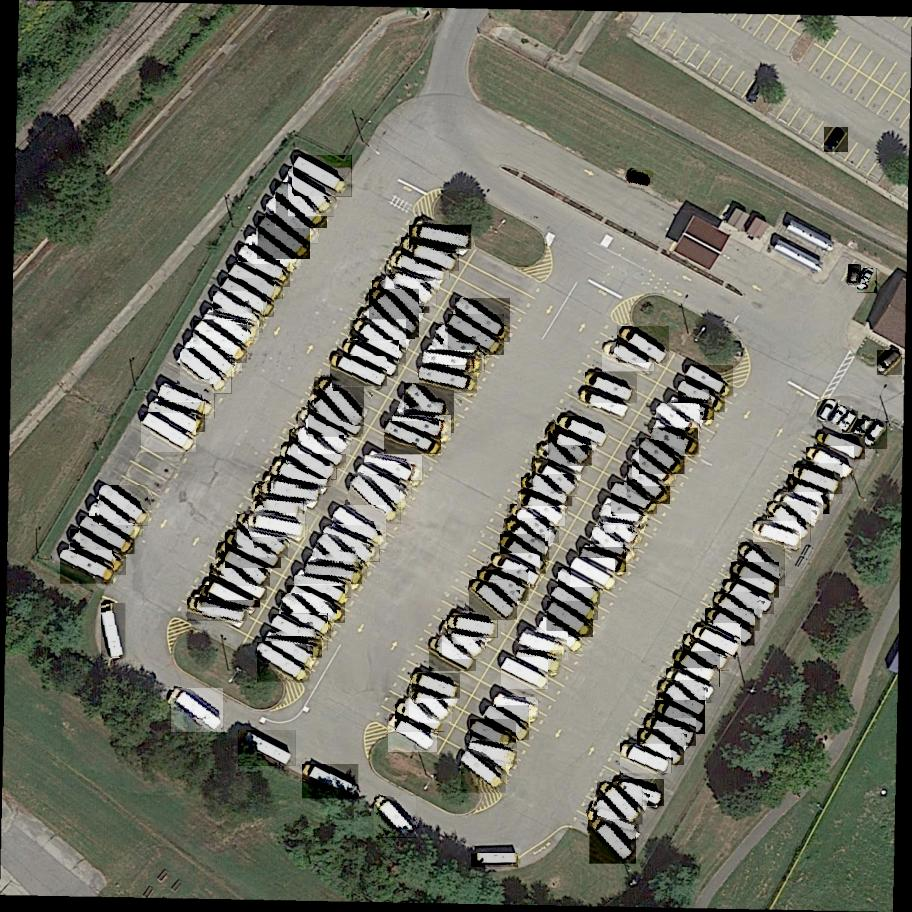large-vehicle: (314, 374, 366, 427), (350, 473, 401, 527), (71, 527, 127, 576), (435, 323, 486, 376), (351, 319, 407, 367), (455, 295, 510, 343), (368, 287, 419, 338), (286, 166, 335, 219), (405, 382, 454, 435), (317, 533, 367, 584), (218, 540, 270, 589), (299, 407, 351, 456), (178, 348, 232, 395), (281, 593, 332, 642), (267, 197, 319, 245), (258, 212, 311, 259), (171, 687, 224, 734), (293, 155, 352, 197), (209, 561, 269, 602), (255, 480, 305, 529), (386, 260, 437, 308), (276, 183, 328, 230), (237, 513, 290, 559), (289, 427, 347, 469), (193, 320, 247, 365), (333, 505, 387, 550), (448, 315, 505, 357), (238, 244, 291, 289), (287, 583, 345, 624), (256, 643, 310, 686), (141, 411, 196, 453), (271, 613, 330, 652), (238, 729, 297, 767), (356, 464, 413, 503), (307, 400, 365, 438), (213, 290, 264, 333), (508, 503, 560, 545), (221, 276, 274, 317), (343, 339, 400, 377), (738, 542, 785, 588), (590, 818, 636, 865), (99, 485, 149, 528), (225, 531, 281, 569), (597, 780, 643, 826), (505, 516, 550, 563), (469, 577, 517, 621), (80, 517, 134, 556), (402, 235, 460, 271), (323, 526, 381, 562), (618, 325, 670, 365), (282, 445, 338, 482), (638, 727, 685, 771), (721, 577, 775, 615), (302, 764, 359, 800), (706, 607, 756, 648), (159, 383, 216, 418), (229, 264, 284, 300), (533, 454, 578, 498), (461, 751, 507, 794), (659, 678, 705, 721), (549, 420, 592, 466), (388, 713, 437, 753), (372, 281, 431, 314), (384, 421, 441, 455), (768, 500, 812, 544), (409, 680, 452, 725), (88, 504, 143, 539), (714, 591, 762, 631), (731, 562, 780, 601), (500, 535, 547, 575), (599, 508, 641, 552), (655, 700, 706, 736), (488, 553, 542, 587), (60, 550, 114, 584), (540, 617, 587, 656), (245, 236, 302, 268), (330, 356, 387, 388), (375, 796, 416, 840), (626, 465, 670, 506), (478, 567, 531, 601), (807, 446, 857, 482), (683, 634, 729, 673), (674, 649, 720, 688), (639, 437, 686, 475), (691, 623, 742, 658), (577, 388, 631, 421), (518, 490, 566, 527), (149, 402, 206, 433), (789, 473, 831, 515), (443, 619, 485, 661), (657, 402, 701, 442), (667, 669, 720, 702), (184, 342, 242, 372), (419, 365, 479, 394), (546, 601, 593, 638), (535, 442, 587, 475), (631, 450, 675, 488), (391, 252, 450, 280), (603, 342, 656, 373), (556, 415, 609, 446), (621, 743, 672, 775), (586, 372, 637, 404), (428, 639, 476, 673), (557, 568, 601, 605), (521, 476, 573, 507), (551, 586, 597, 621), (501, 657, 548, 691), (485, 705, 529, 741), (686, 364, 734, 397), (201, 315, 259, 342), (365, 456, 423, 483), (593, 527, 635, 564), (409, 225, 471, 250), (795, 464, 843, 496), (677, 381, 725, 413), (471, 719, 517, 752), (101, 603, 128, 659), (644, 718, 696, 747), (611, 483, 658, 515), (188, 597, 247, 622), (201, 585, 260, 610), (774, 492, 824, 521), (395, 703, 445, 732), (571, 557, 616, 589), (613, 779, 664, 807), (754, 520, 803, 549), (519, 631, 568, 660), (263, 637, 323, 660), (249, 514, 306, 538), (412, 673, 462, 700), (270, 466, 331, 488), (294, 575, 352, 598), (589, 807, 640, 833), (817, 434, 866, 461), (423, 350, 483, 372), (651, 429, 699, 456), (357, 318, 415, 340), (392, 416, 452, 437), (261, 481, 321, 502), (580, 547, 627, 573), (305, 563, 363, 584), (467, 743, 518, 765), (447, 616, 497, 638), (515, 651, 562, 674), (494, 697, 539, 719), (601, 504, 651, 523), (668, 402, 715, 420), (471, 854, 518, 867)
small-vehicle: (864, 422, 889, 449), (824, 127, 848, 154), (878, 351, 903, 376), (853, 418, 877, 442), (817, 399, 839, 425), (858, 268, 880, 294), (828, 406, 850, 429), (843, 411, 862, 435), (626, 171, 654, 187), (849, 264, 863, 286)
